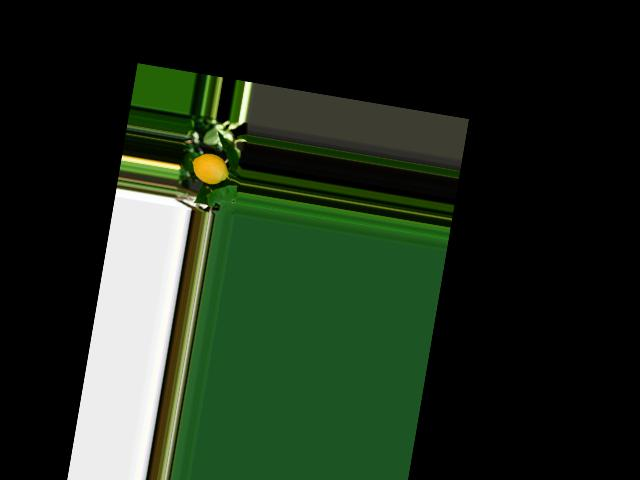lemon: (184, 146, 232, 187)
